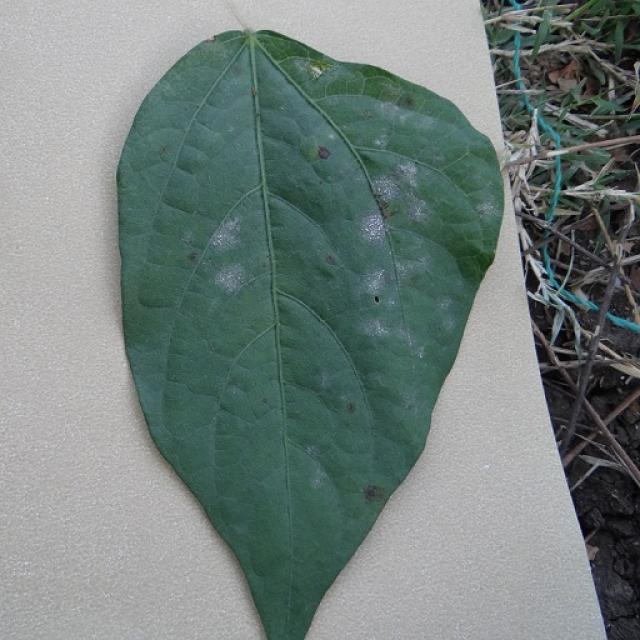Blackgram: (119, 31, 501, 639)
Powdery_Mildew: (359, 202, 390, 245), (210, 215, 243, 250), (371, 174, 404, 209), (215, 262, 250, 294), (361, 315, 395, 342), (363, 269, 389, 297), (395, 258, 422, 283), (407, 198, 430, 223), (395, 160, 418, 179), (363, 484, 383, 502), (372, 130, 389, 148), (293, 58, 311, 74), (475, 201, 494, 216), (437, 297, 452, 312), (317, 145, 331, 160), (309, 64, 323, 77), (325, 254, 337, 266), (187, 252, 198, 262), (362, 109, 373, 118), (620, 375, 625, 380)
